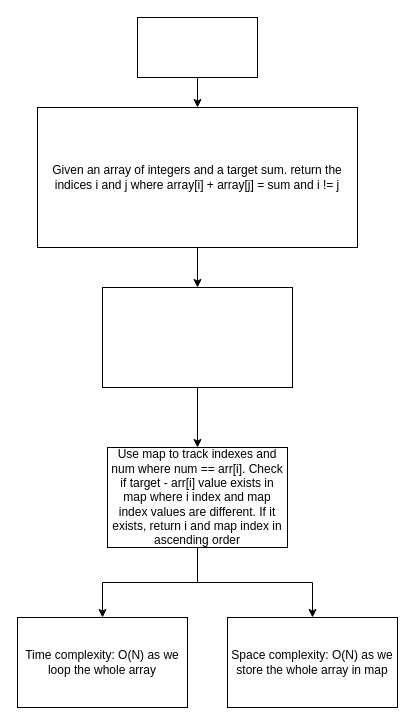
This 415x725 diagram has some shape labels left out. Here are the shapes that lost their labels. From the top down, the box of each, then its label:
(136, 16, 258, 78): Two Integer Sum
(102, 286, 292, 388): Input: nums = [3,4,5,6], target = 7 Output: [0,1]
